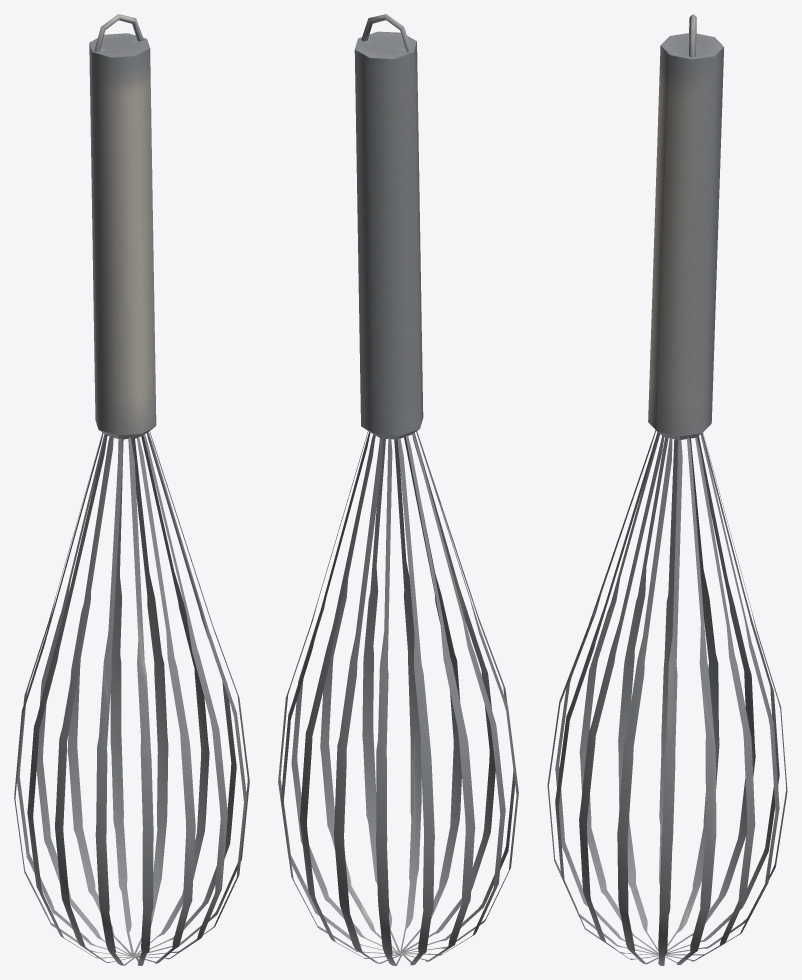
The model's file is SM_Utensil_07.glb.
The picture shows the model from 3 angles, left to right: view 1: azimuth 30°, elevation 25°; view 2: azimuth 150°, elevation 25°; view 3: azimuth 270°, elevation 25°; orthographic projection. The views are drawn at different scales.
Parts seen in each view (by area): view 1: SM_Utensil_07; view 2: SM_Utensil_07; view 3: SM_Utensil_07.
Boxes of the visible parts, <box> form: SM_Utensil_07: <box>14,14,249,965</box>; SM_Utensil_07: <box>278,14,518,965</box>; SM_Utensil_07: <box>547,14,787,965</box>.
Size of the model in its own units: 0.0946 by 0.4087 by 0.0945.
1 material, 1 textured.
